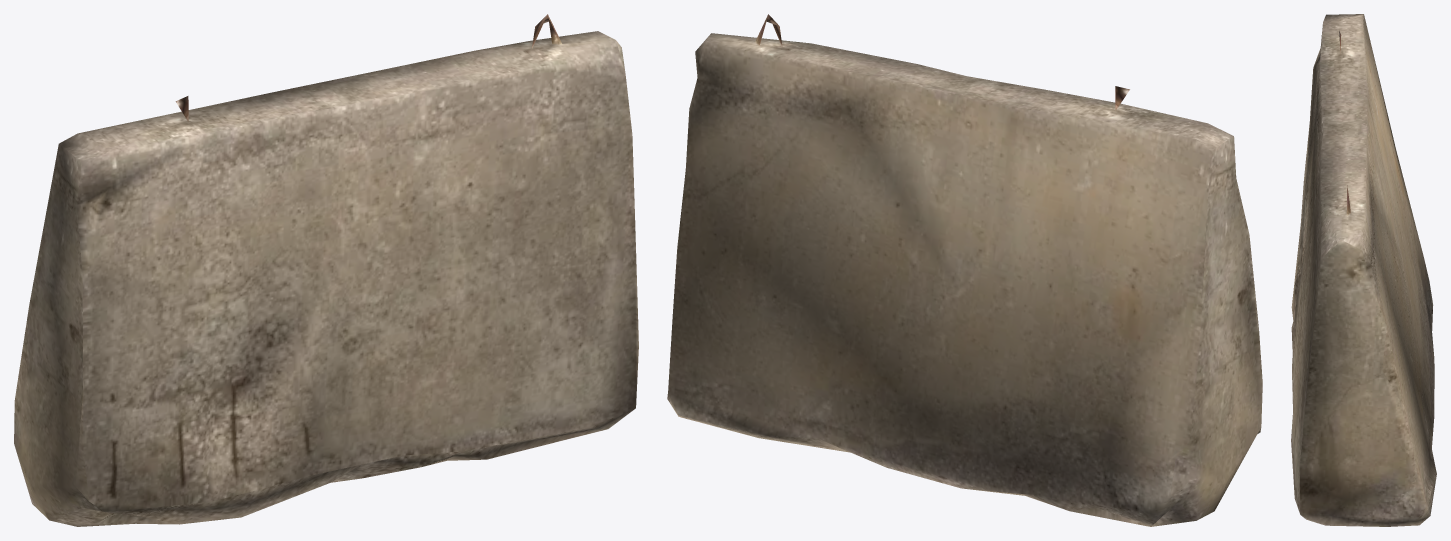
File: concrete_road_barrier_02.glb
The picture shows the model from 3 angles, left to right: view 1: azimuth 30°, elevation 25°; view 2: azimuth 150°, elevation 25°; view 3: azimuth 270°, elevation 25°; orthographic projection. The views are drawn at different scales.
Visible parts, largest first — view 1: concrete_road_barrier_02; view 2: concrete_road_barrier_02; view 3: concrete_road_barrier_02.
Boxes of the visible parts, x1=… form: concrete_road_barrier_02: x1=14, y1=14, x2=638, y2=526; concrete_road_barrier_02: x1=667, y1=14, x2=1262, y2=526; concrete_road_barrier_02: x1=1291, y1=14, x2=1436, y2=526.
Bounding box in the file's own units: 1.56 × 1.09 × 0.437.
1 material, 1 textured.
